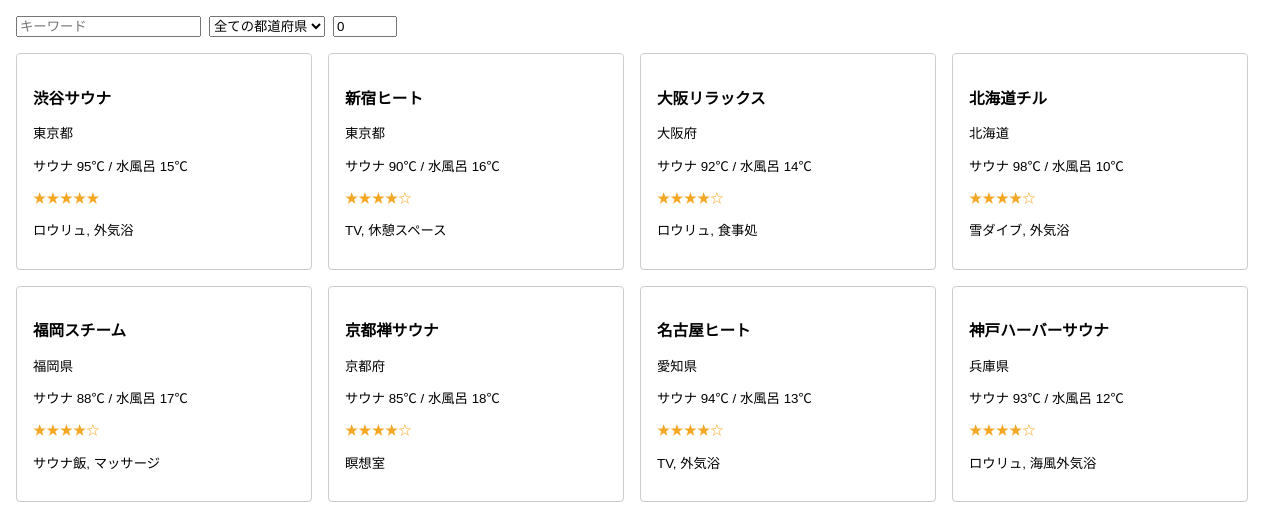
Test: keyword filter
Step 1. Type "渋谷" into the field labelled "キーワード" → (108, 26), box [16,16,201,37]
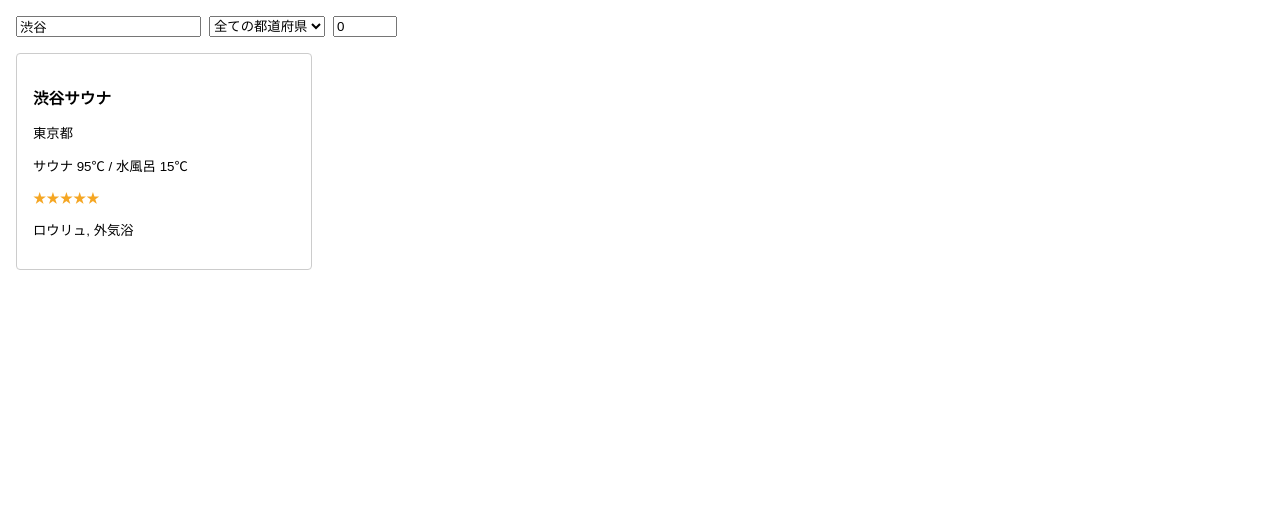
Expected: the heading "渋谷サウナ" is shown, [33,90,111,107]
Expected: the number of buttons is 1, [16,53,312,270]
